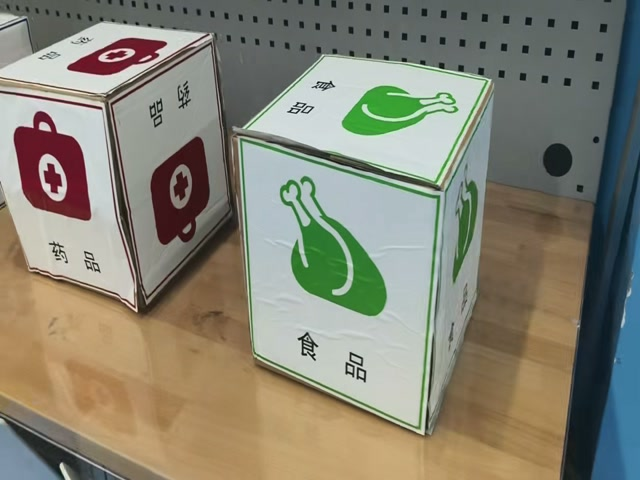Cube_food: (242, 56, 495, 182)
Cube_medicine: (2, 19, 217, 102)
